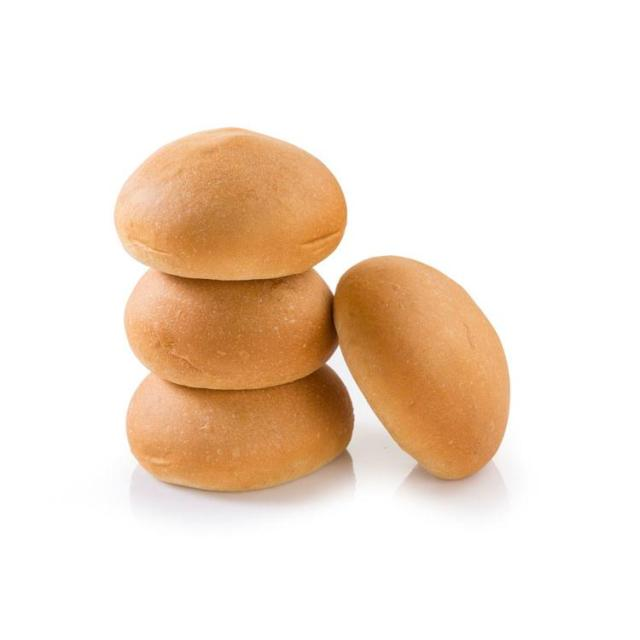Bun: (331, 251, 516, 486), (109, 121, 350, 292), (125, 368, 360, 492), (109, 275, 338, 389)
